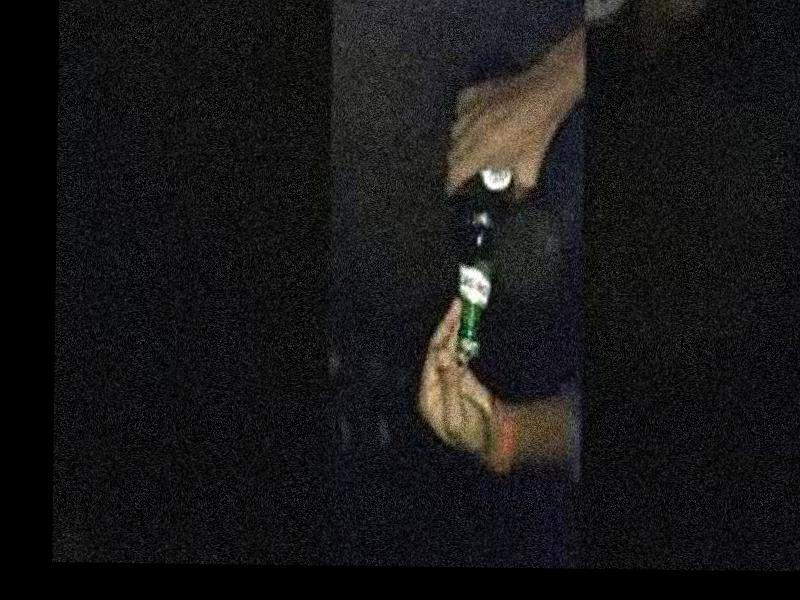Beer: (450, 55, 528, 356)
